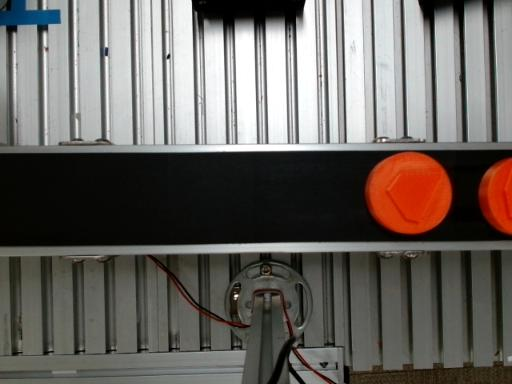Not_Square: (386, 170, 444, 223)
Orange_Waper: (365, 151, 453, 234), (478, 158, 511, 234)
